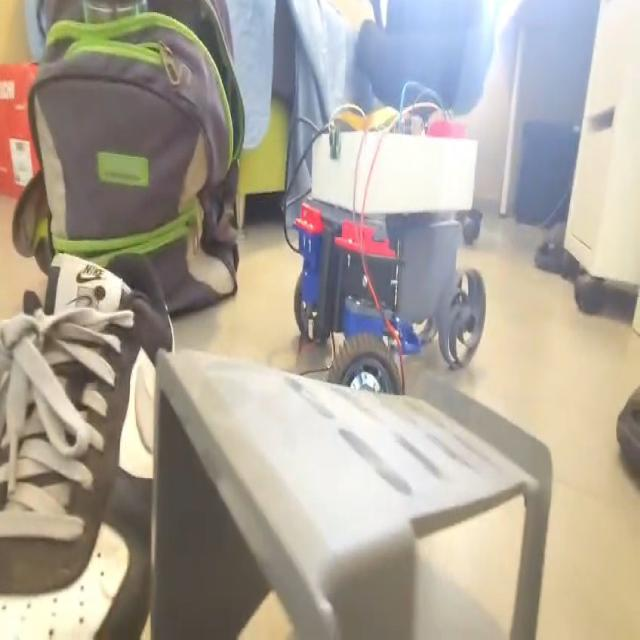Robot: (292, 108, 486, 396)
